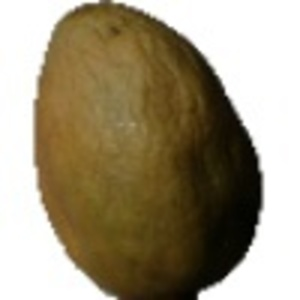mamão: (41, 2, 266, 295)
